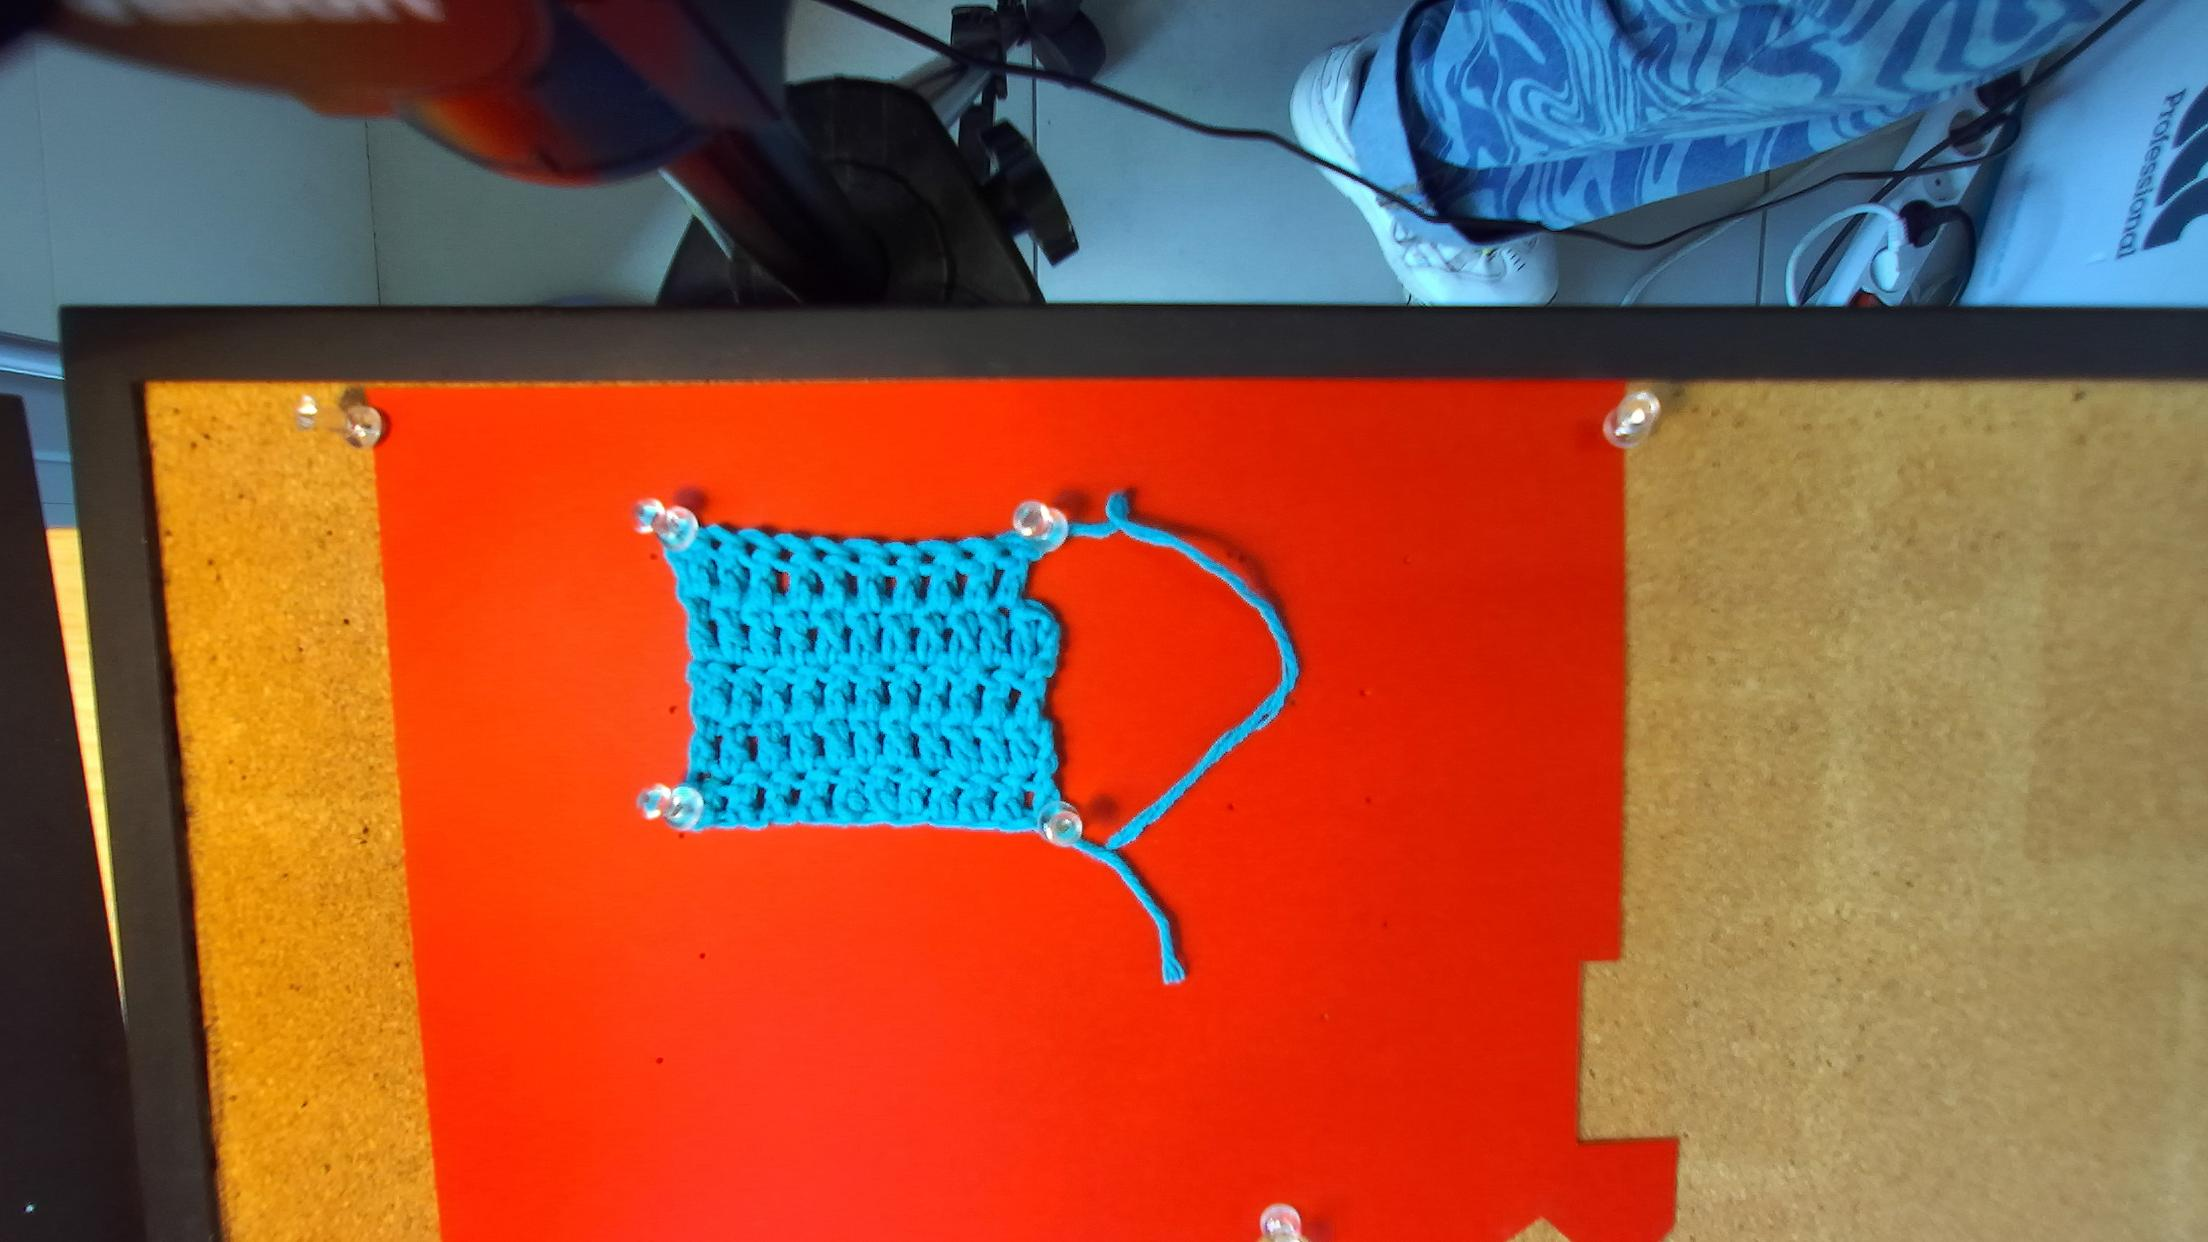hole: (743, 540, 760, 559), (775, 546, 795, 562), (813, 547, 829, 563), (920, 552, 937, 565), (886, 553, 901, 567), (710, 538, 724, 552), (960, 550, 975, 561), (848, 552, 860, 564), (1000, 547, 1012, 558)
swatch: (637, 506, 1087, 844)
